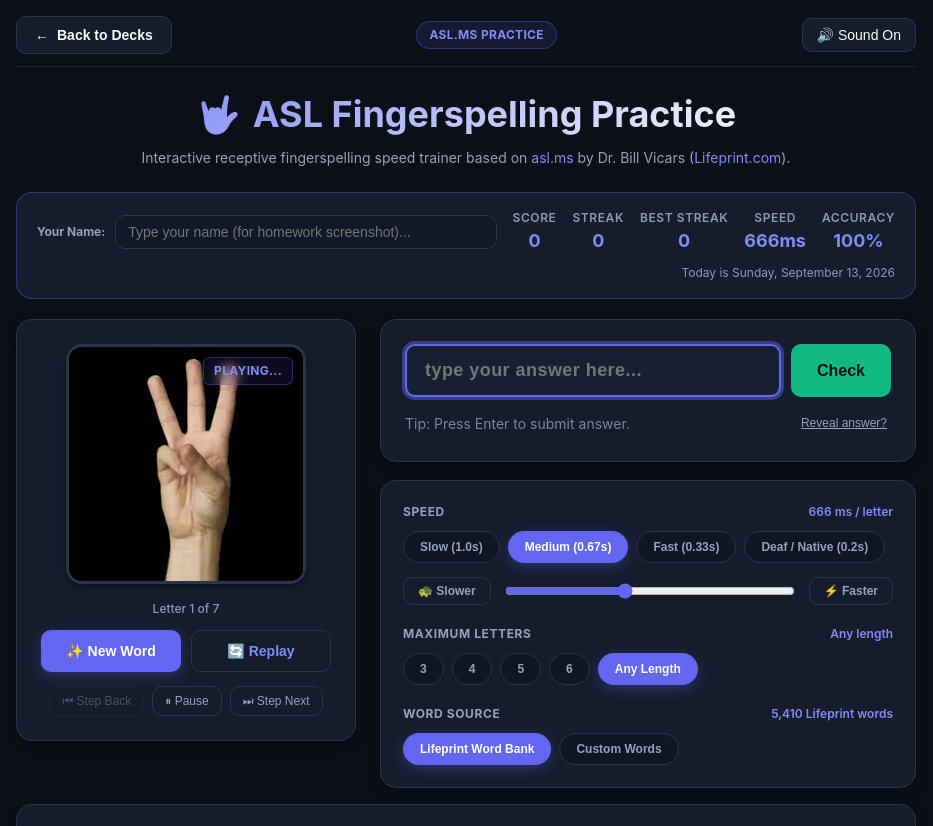
it: Tier 2: Boundary, Edge & Corner Cases › Boundary Area 5: Fingerspelling Tempo Limits & Word Bank Extremes › 5.1: Deaf speed preset button sets fastest tempo (0.2s / 200ms)
Click the button "Deaf / Native (0.2s)" at (815,547), box [744,531,885,563]
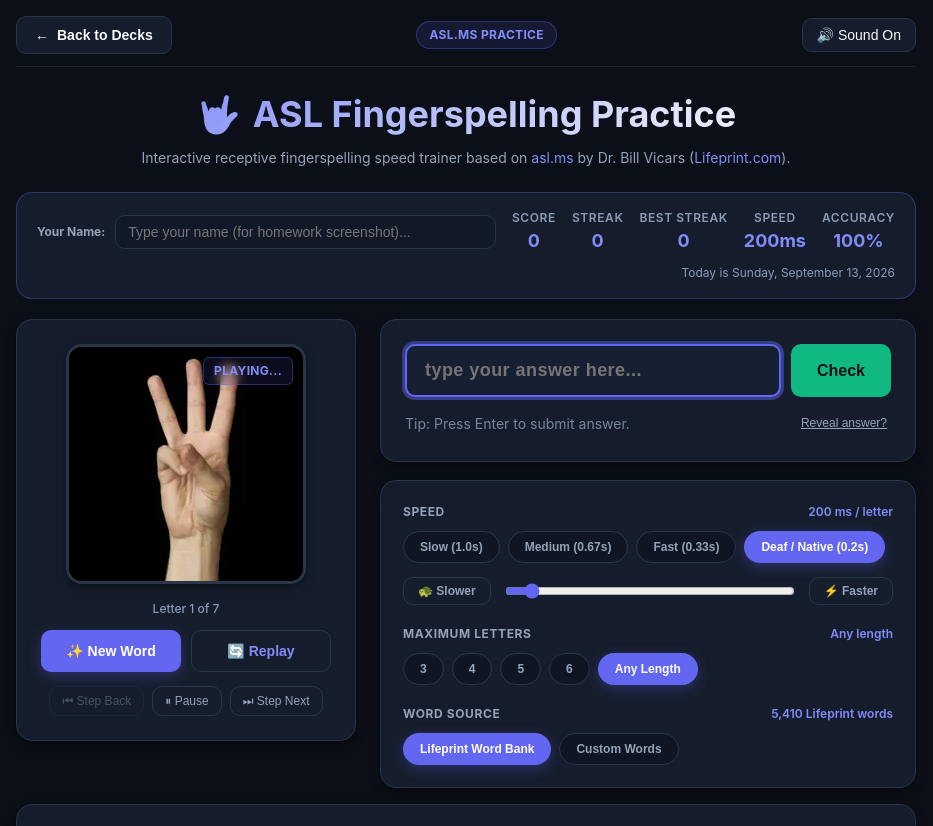
Result: the text "200 ms / letter" is shown at [808,503,893,521]
